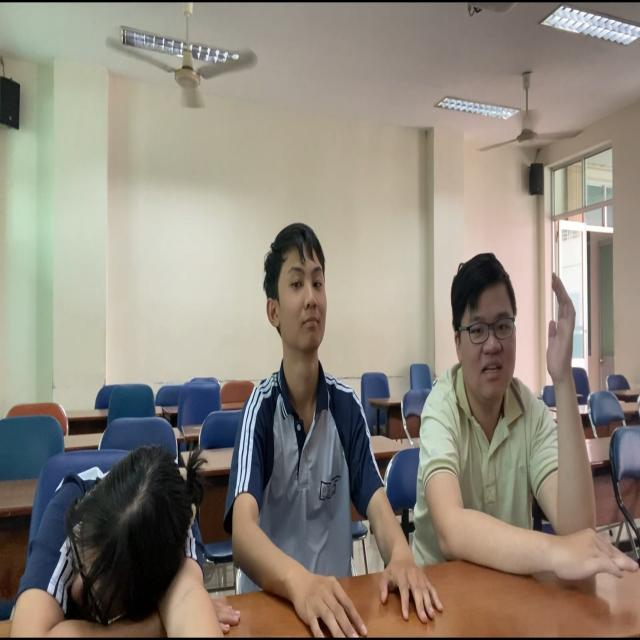raise_hand: (412, 241, 614, 586)
sleep: (1, 416, 214, 640)
